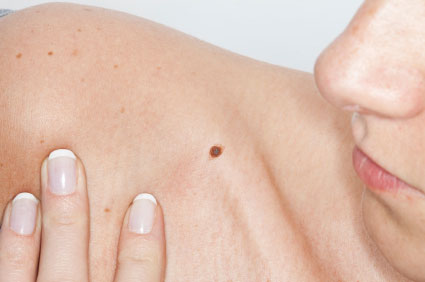mole: (203, 137, 231, 165), (11, 47, 25, 61), (45, 46, 57, 58)
